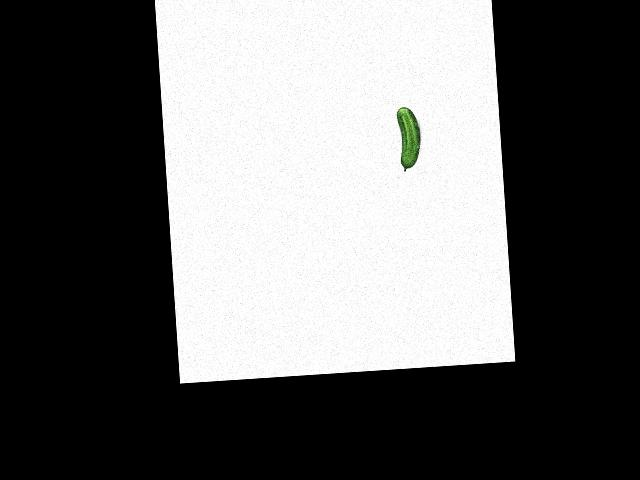cucumber: (396, 106, 422, 171)
